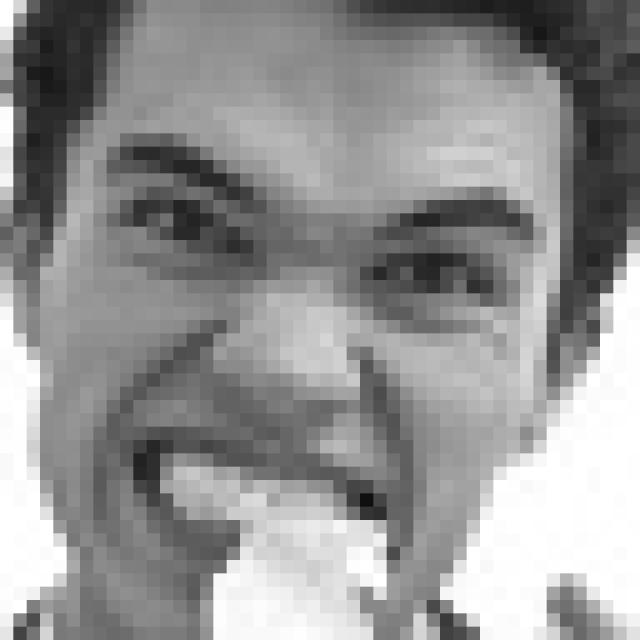angry: (84, 139, 544, 558)
